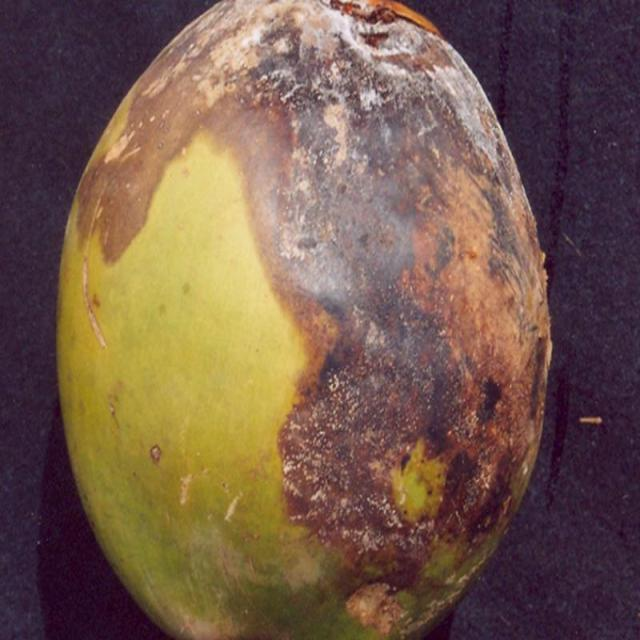damaged: (58, 0, 550, 639)
